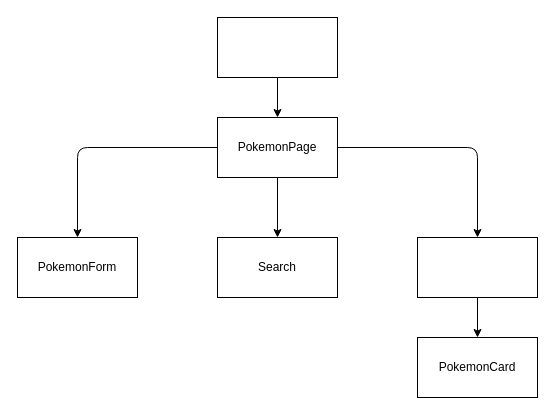
The diagram is 555 pixels wide and 415 high, and some of its shapes have lost their labels. Here are the shapes that lost their labels. From the top down, the centre of each, then its label:
At pixel 277 47: "App".
At pixel 477 267: "PokemonCollection".
